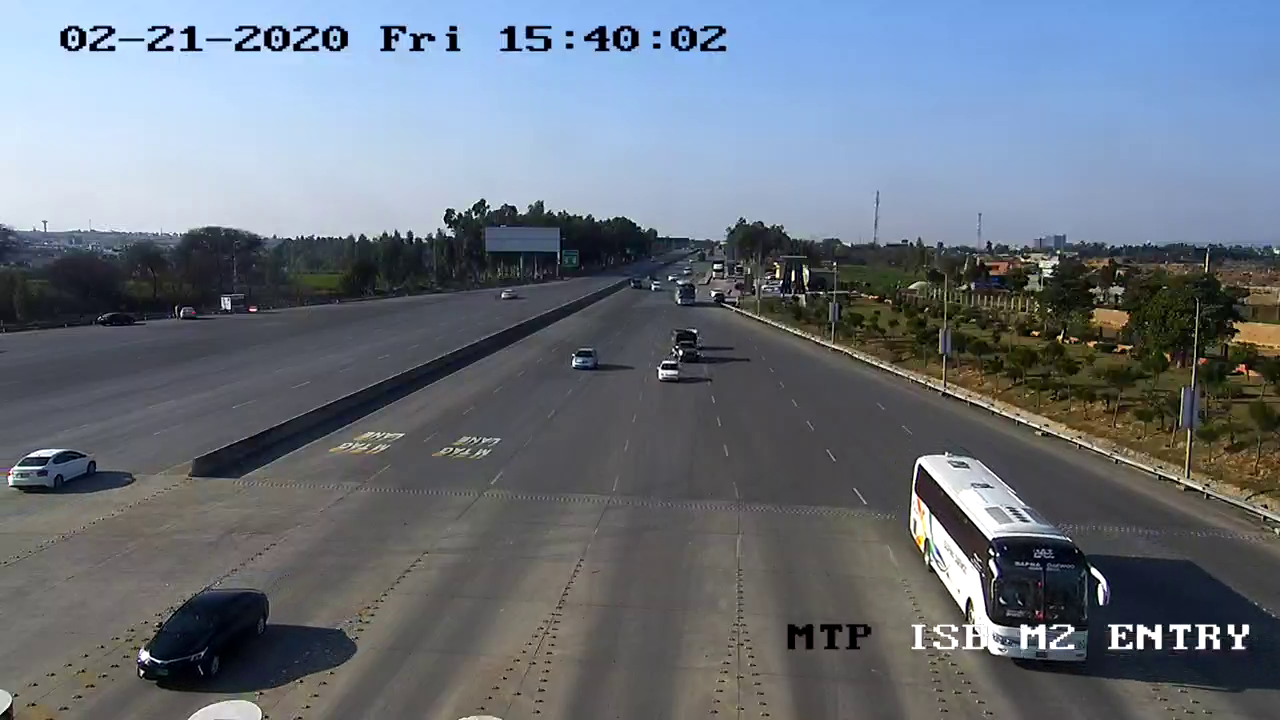f1: (125, 575, 279, 692), (560, 340, 612, 384), (648, 354, 692, 392)
